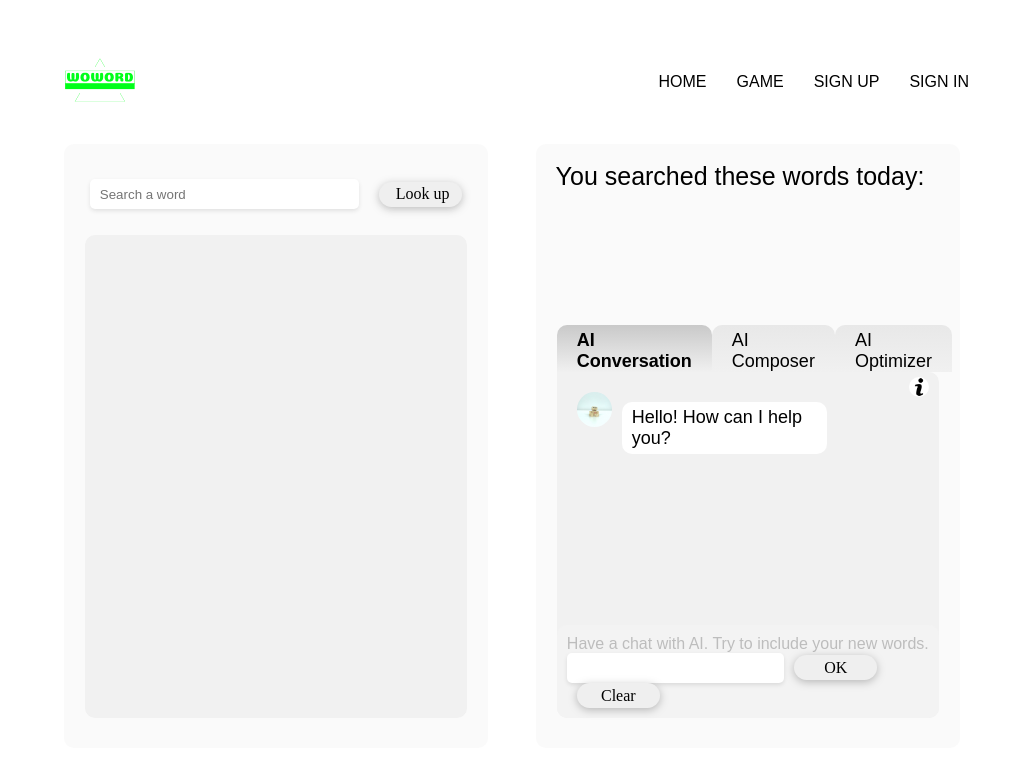
it: testing search a word
Note: fill up the search box with the word 'entry'
Type "gelato" into the field with placeholder "Search a word" at (224, 194), box [90, 179, 359, 209]
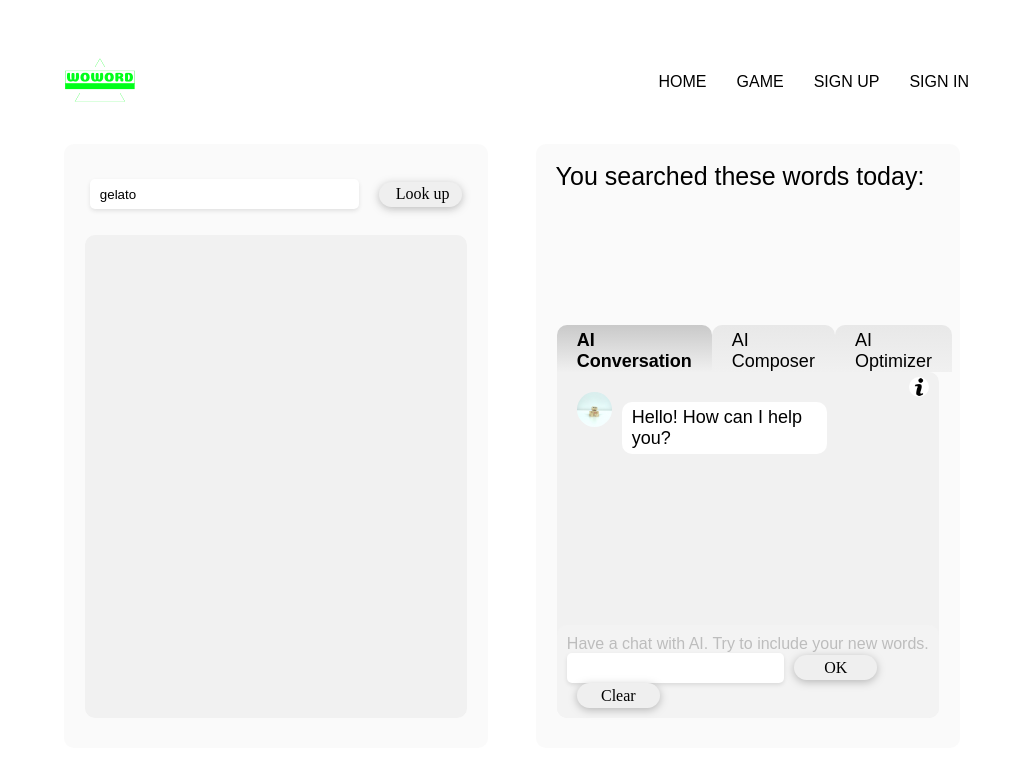
Click the button "Look up" at (421, 194), box [379, 182, 462, 206]
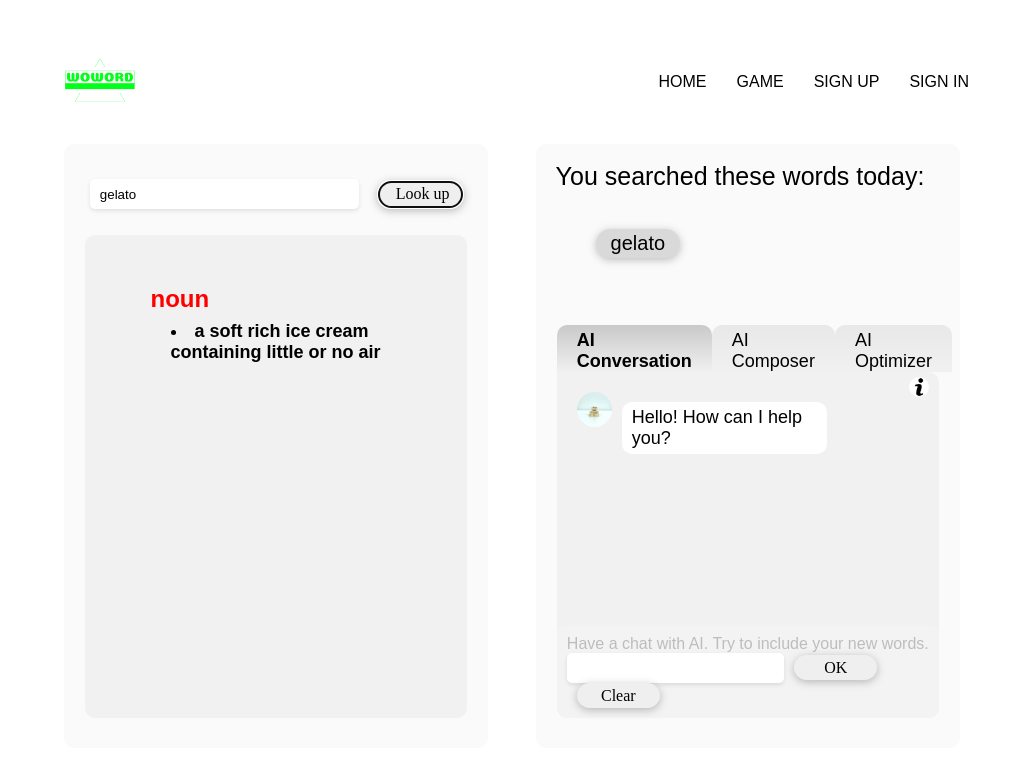
Now the text "noun" is shown, box [150, 285, 209, 312]
Now the list item "a soft rich ice cream containing little or no air" is shown, box [170, 321, 402, 363]
Now the button "gelato" is shown, box [611, 232, 665, 255]
